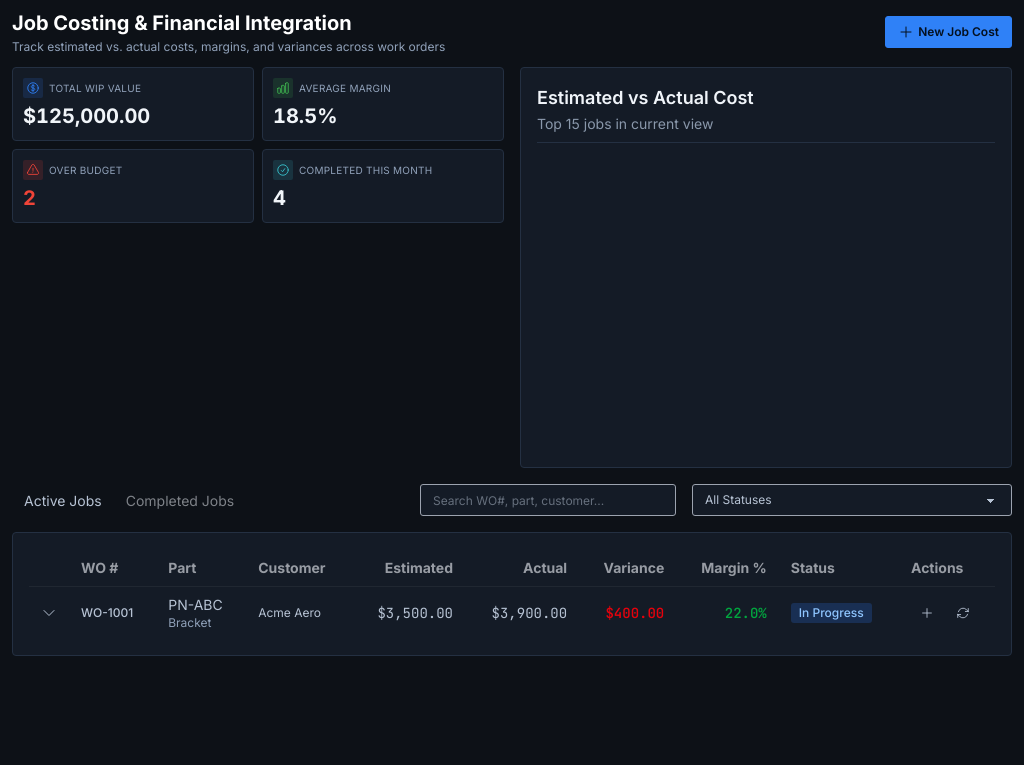
it: admin gets financial reads with only authorized write controls
This screenshot has width=1024, height=765.
What coordinates should you click on to do the following:
click the text "WO-1001"
I would click on:
 (113, 613)
Its box is x1=69 y1=587 x2=156 y2=639.
(page scrolled)
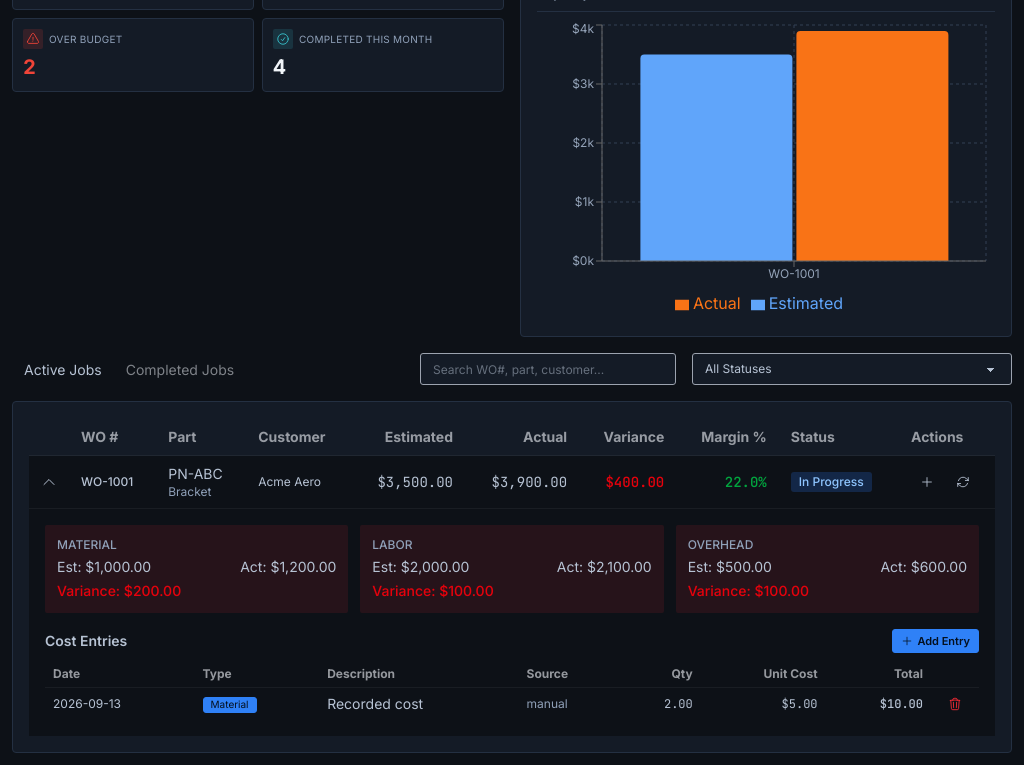
Expected: the text "Recorded cost" is shown, x1=319 y1=688 x2=519 y2=720
